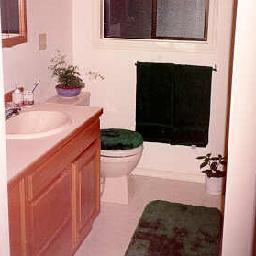Lavamanos: (6, 103, 70, 148)
Sanitario: (67, 94, 144, 206)
